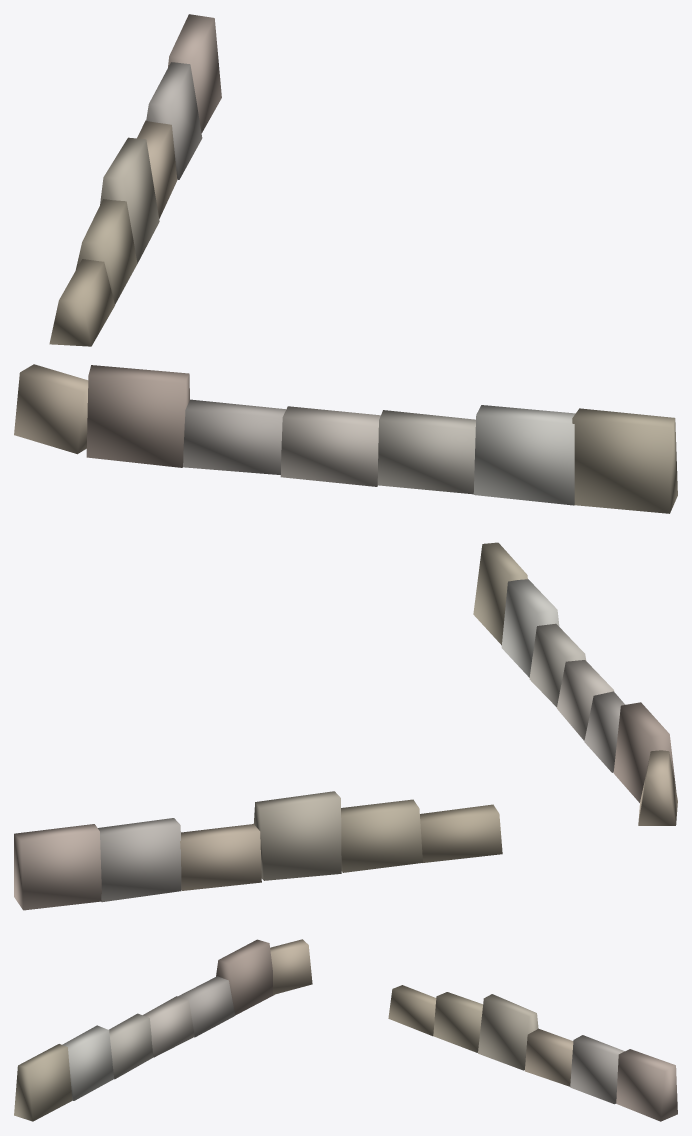
The model's file is farm_-2_8_far.glb.
3 renders of one model, top to bottom at view 1: azimuth 30°, elevation 25°; view 2: azimuth 150°, elevation 25°; view 3: azimuth 270°, elevation 25°, orthographic. The views are drawn at different scales.
Parts seen in each view (by area): view 1: geometry_0; view 2: geometry_0; view 3: geometry_0.
Part boxes in pixels (<box>): geometry_0: <box>14,14,677,513</box>; geometry_0: <box>14,542,677,910</box>; geometry_0: <box>14,939,677,1121</box>.
Size of the model in its own units: 9.1 by 1.81 by 16.8.
